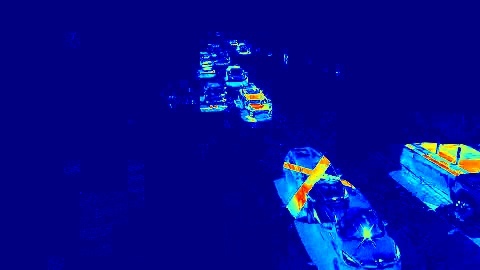vehicle: (289, 162, 368, 269), (417, 145, 478, 210), (233, 88, 270, 119), (206, 87, 224, 111), (227, 69, 244, 84)
